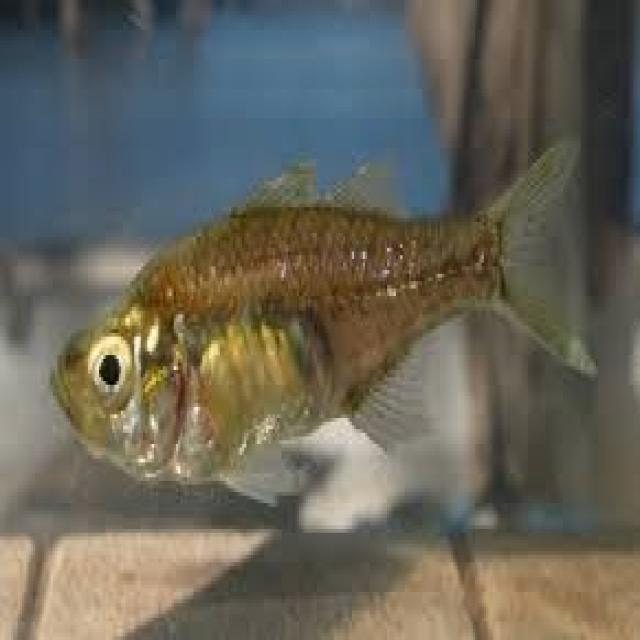Glass-Perchlet: (6, 20, 611, 563)
